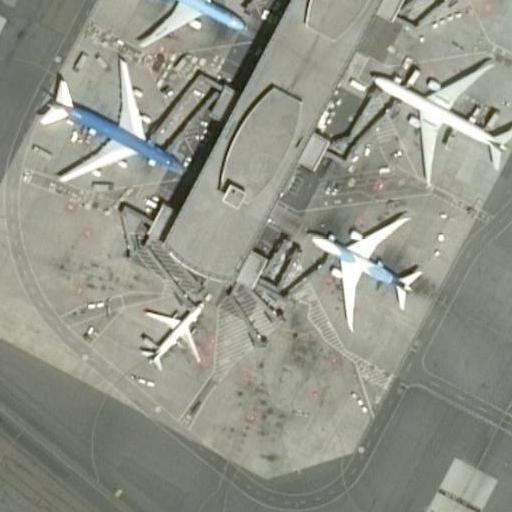Aircraft: (31, 51, 188, 185), (363, 51, 512, 188), (294, 208, 427, 328), (110, 0, 252, 49), (130, 291, 206, 371)
